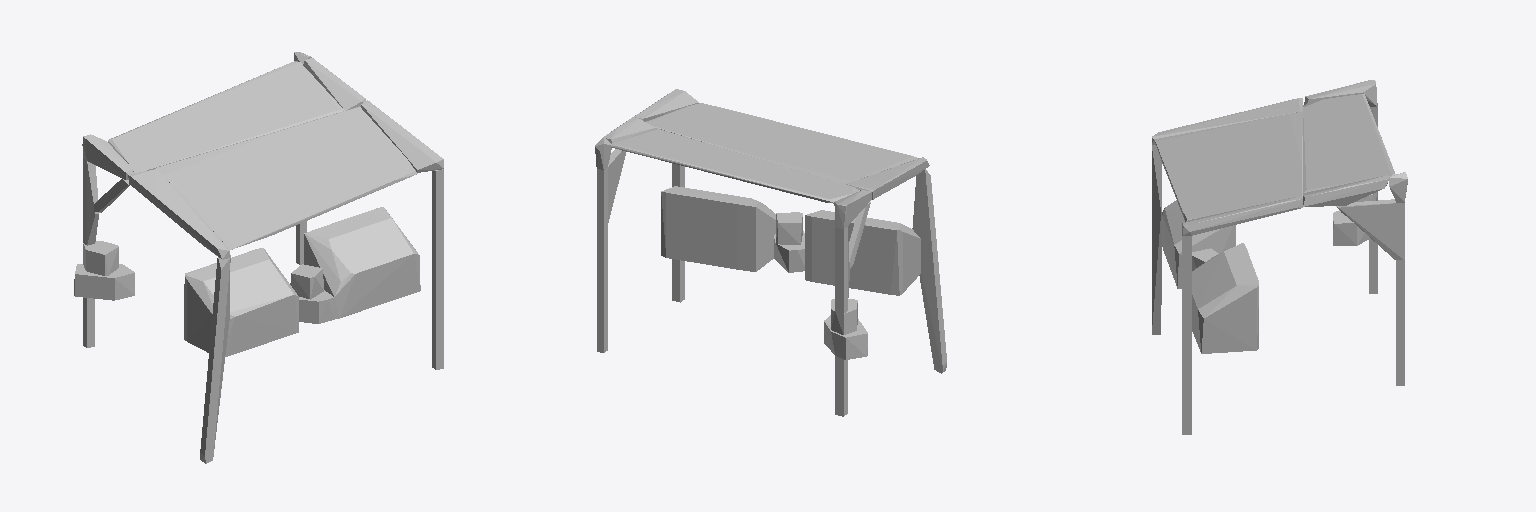
Rendered from x_full_shop.obj.
The picture shows the model from 3 angles: view 1: azimuth 30°, elevation 25°; view 2: azimuth 150°, elevation 25°; view 3: azimuth 270°, elevation 25°; orthographic projection.
Visible parts, largest first — view 1: convex_7, convex_0, convex_2, convex_13, convex_4, convex_6, convex_5, convex_9, convex_14, convex_11, convex_19, convex_10 (+4 smaller); view 2: convex_7, convex_2, convex_13, convex_0, convex_4, convex_3, convex_6, convex_12, convex_14, convex_10, convex_9, convex_11 (+7 smaller); view 3: convex_7, convex_0, convex_2, convex_12, convex_13, convex_5, convex_4, convex_9, convex_6, convex_19, convex_3, convex_14 (+1 smaller).
Boxes of the visible parts, x1=… form: convex_7: x1=156, y1=106, x2=417, y2=249; convex_0: x1=108, y1=61, x2=344, y2=172; convex_2: x1=304, y1=207, x2=420, y2=319; convex_13: x1=184, y1=248, x2=298, y2=356; convex_4: x1=200, y1=257, x2=230, y2=463; convex_6: x1=128, y1=169, x2=230, y2=259; convex_5: x1=432, y1=169, x2=443, y2=369; convex_9: x1=361, y1=100, x2=443, y2=172; convex_14: x1=74, y1=264, x2=134, y2=300; convex_11: x1=82, y1=134, x2=133, y2=179; convex_19: x1=303, y1=58, x2=365, y2=110; convex_10: x1=83, y1=158, x2=98, y2=245; convex_7: x1=646, y1=103, x2=917, y2=184; convex_2: x1=661, y1=186, x2=775, y2=271; convex_13: x1=805, y1=210, x2=920, y2=295; convex_0: x1=611, y1=128, x2=859, y2=203; convex_4: x1=912, y1=169, x2=946, y2=373; convex_3: x1=597, y1=225, x2=607, y2=352; convex_6: x1=846, y1=157, x2=929, y2=199; convex_12: x1=597, y1=149, x2=625, y2=227; convex_14: x1=824, y1=315, x2=867, y2=359; convex_10: x1=835, y1=227, x2=849, y2=313; convex_9: x1=634, y1=89, x2=698, y2=121; convex_11: x1=834, y1=190, x2=871, y2=228; convex_7: x1=1154, y1=112, x2=1302, y2=221; convex_0: x1=1303, y1=93, x2=1395, y2=192; convex_2: x1=1192, y1=243, x2=1258, y2=353; convex_12: x1=1336, y1=199, x2=1404, y2=259; convex_13: x1=1162, y1=200, x2=1235, y2=288; convex_5: x1=1182, y1=236, x2=1191, y2=434; convex_4: x1=1152, y1=145, x2=1161, y2=334; convex_9: x1=1182, y1=196, x2=1302, y2=235; convex_6: x1=1152, y1=98, x2=1302, y2=144; convex_19: x1=1303, y1=175, x2=1388, y2=206; convex_3: x1=1396, y1=260, x2=1404, y2=385; convex_14: x1=1333, y1=210, x2=1370, y2=245.
Size of the model in its own units: 265 by 240 by 209.